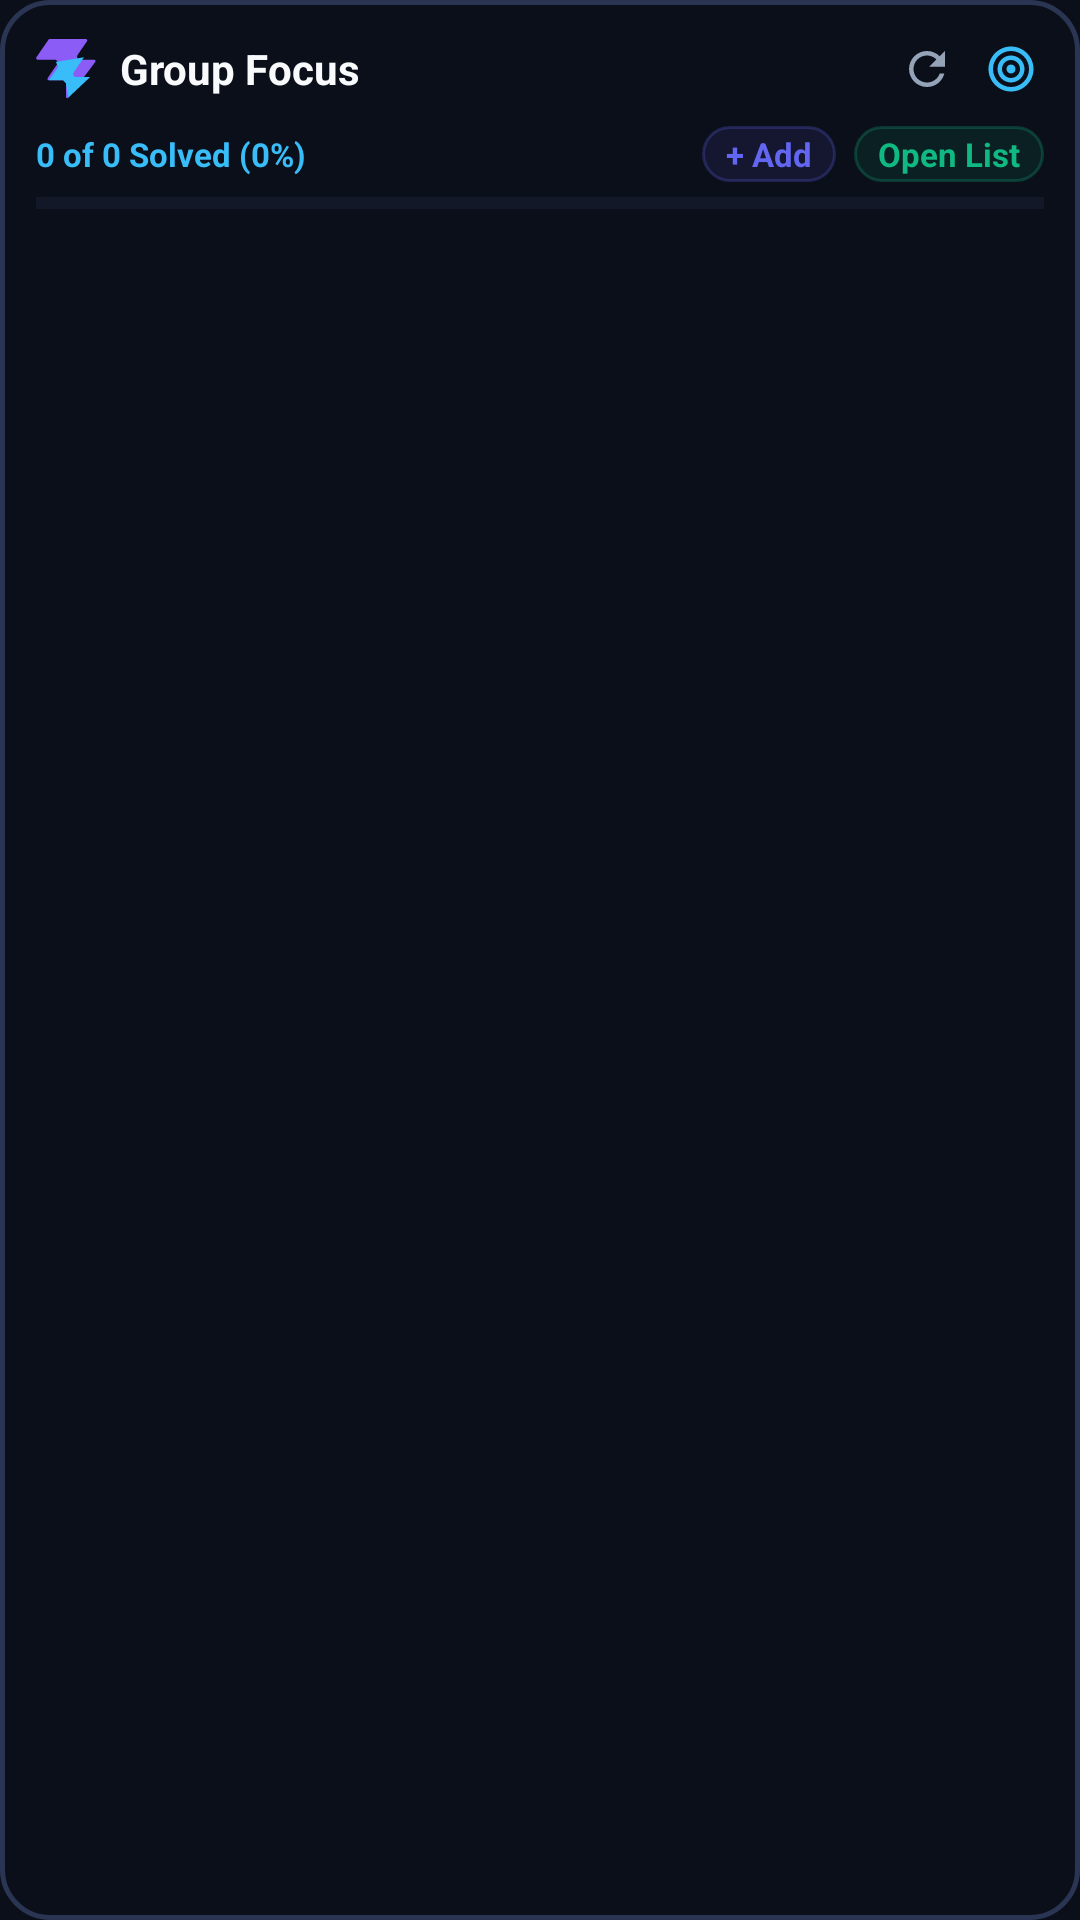

Icon bounding boxes for this 1080px x 1920px phone screenshot, format rect(x1, y1, x2, y2):
Refresh: rect(909, 51, 945, 87)
